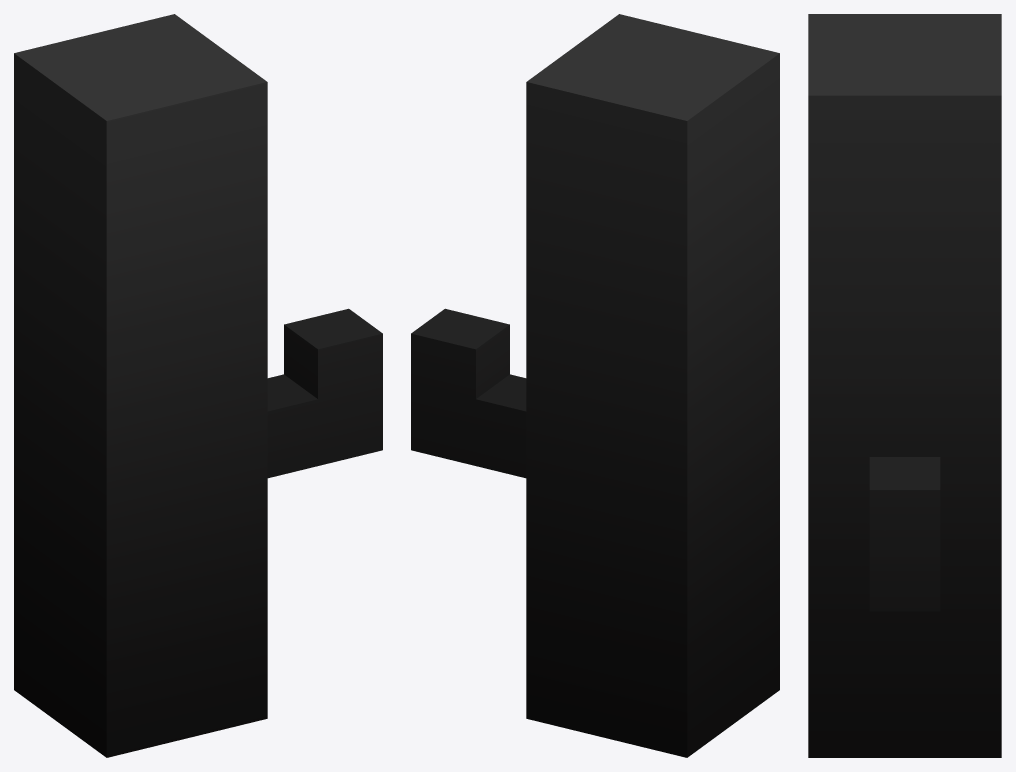
File: Tree_Dead3.fbx
The picture shows the model from 3 angles, left to right: view 1: azimuth 30°, elevation 25°; view 2: azimuth 150°, elevation 25°; view 3: azimuth 270°, elevation 25°; orthographic projection. The views are drawn at different scales.
Visible parts, largest first — view 1: Tree_dead3; view 2: Tree_dead3; view 3: Tree_dead3.
Part boxes in pixels (x1=…): Tree_dead3: x1=14, y1=14, x2=382, y2=757; Tree_dead3: x1=411, y1=14, x2=779, y2=757; Tree_dead3: x1=808, y1=14, x2=1001, y2=757.
Bounding box in the file's own units: 230 × 459 × 121.
